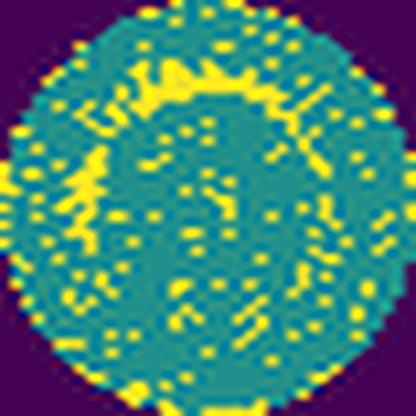Donut: (50, 47, 357, 361)
